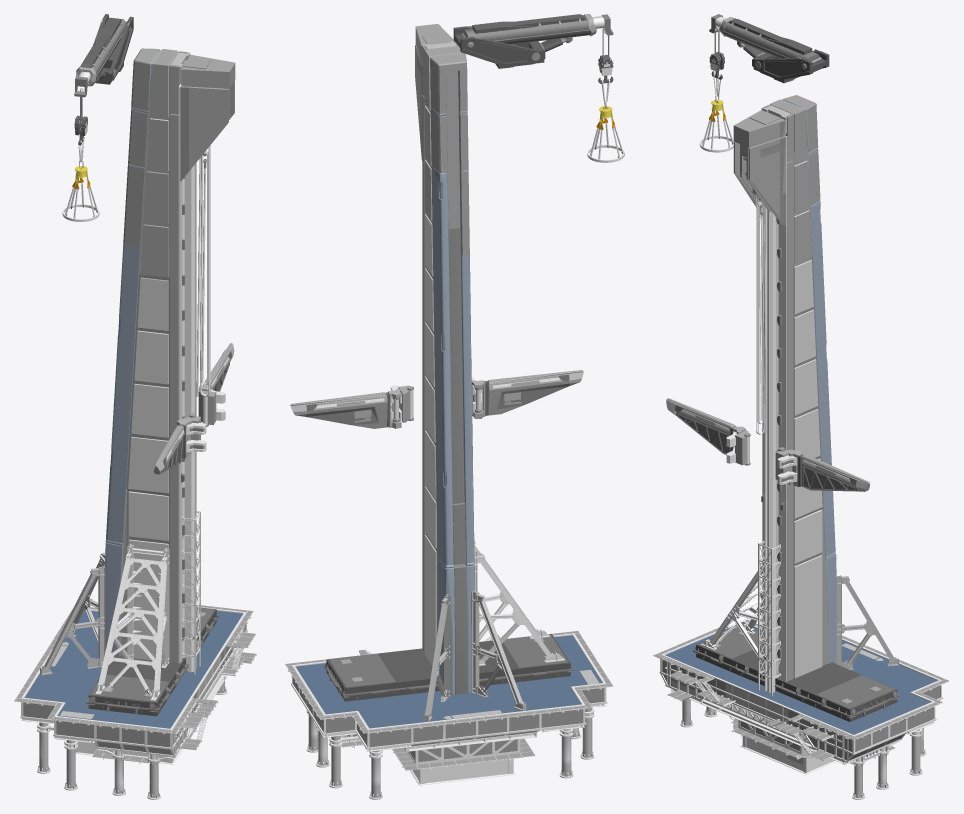
File: cell_156_96.fbx
3 renders of one model, left to right at view 1: azimuth 30°, elevation 25°; view 2: azimuth 150°, elevation 25°; view 3: azimuth 270°, elevation 25°, orthographic. The views are drawn at different scales.
Visible parts, largest first — view 1: SM_H_Industrial_ISS_LaunchLauncher_01C.mo.002, SM_H_Industrial_ISS_LaunchLauncher_01B.mo.002, SM_H_Industrial_ISS_Rocket_02.mo, SM_H_Industrial_ISS_LaunchLauncher_01K.mo.003; view 2: SM_H_Industrial_ISS_LaunchLauncher_01C.mo.002, SM_H_Industrial_ISS_LaunchLauncher_01B.mo.002, SM_H_Industrial_ISS_Rocket_02.mo, SM_H_Industrial_ISS_LaunchLauncher_01K.mo.003; view 3: SM_H_Industrial_ISS_LaunchLauncher_01C.mo.002, SM_H_Industrial_ISS_LaunchLauncher_01B.mo.002, SM_H_Industrial_ISS_Rocket_02.mo, SM_H_Industrial_ISS_LaunchLauncher_01K.mo.003.
Part boxes in pixels (x1,y1,x2,y2): SM_H_Industrial_ISS_LaunchLauncher_01C.mo.002: (40, 48, 235, 716); SM_H_Industrial_ISS_LaunchLauncher_01B.mo.002: (14, 604, 256, 799); SM_H_Industrial_ISS_Rocket_02.mo: (62, 14, 234, 474); SM_H_Industrial_ISS_LaunchLauncher_01K.mo.003: (95, 544, 169, 700); SM_H_Industrial_ISS_LaunchLauncher_01C.mo.002: (324, 24, 573, 721); SM_H_Industrial_ISS_LaunchLauncher_01B.mo.002: (285, 630, 612, 799); SM_H_Industrial_ISS_Rocket_02.mo: (290, 14, 624, 428); SM_H_Industrial_ISS_LaunchLauncher_01K.mo.003: (474, 539, 564, 665); SM_H_Industrial_ISS_LaunchLauncher_01C.mo.002: (693, 95, 900, 721); SM_H_Industrial_ISS_LaunchLauncher_01B.mo.002: (653, 620, 949, 799); SM_H_Industrial_ISS_Rocket_02.mo: (666, 14, 869, 491); SM_H_Industrial_ISS_LaunchLauncher_01K.mo.003: (700, 562, 762, 664).
Size of the model in its own units: 51.2 by 131 by 51.2.
